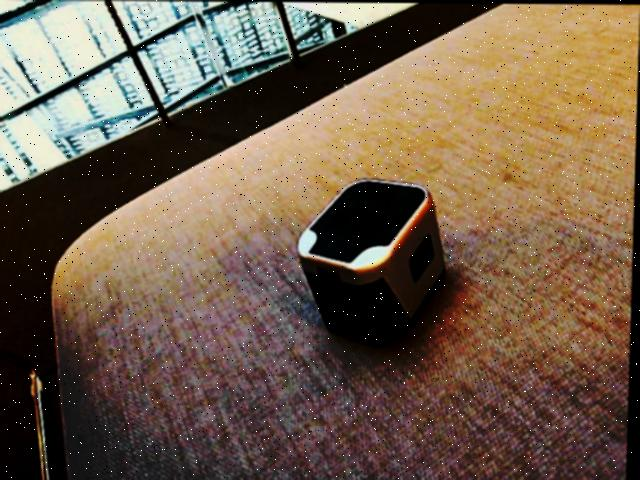adapter: (295, 176, 448, 347)
